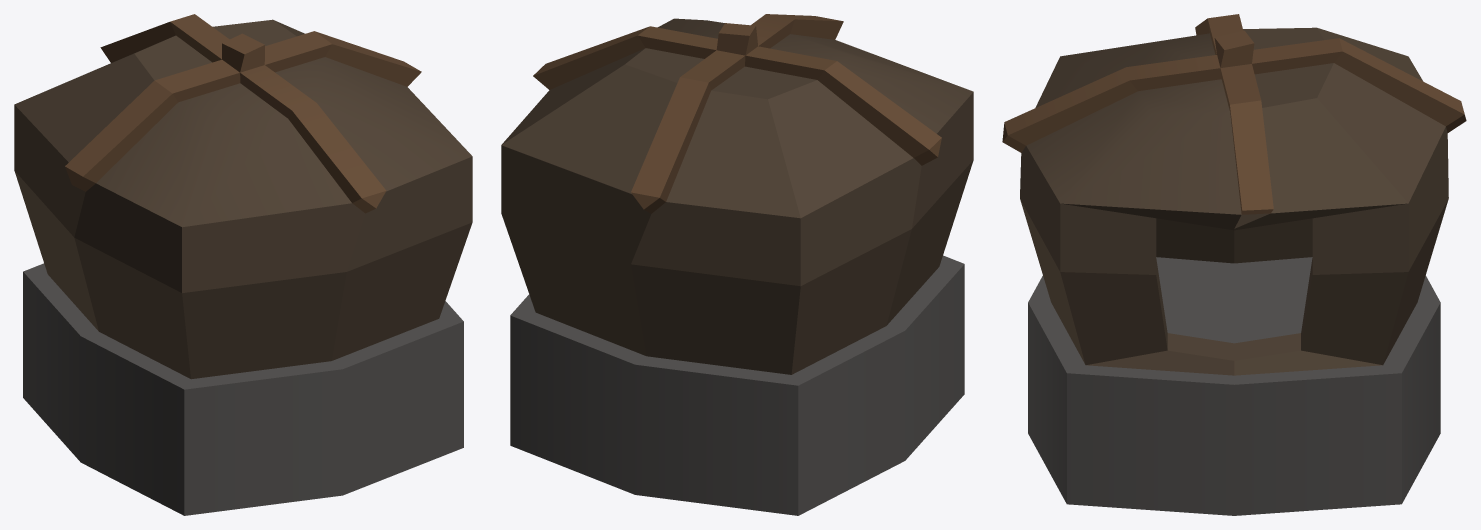
File: hut2.fbx
The picture shows the model from 3 angles, left to right: view 1: azimuth 30°, elevation 25°; view 2: azimuth 150°, elevation 25°; view 3: azimuth 270°, elevation 25°; orthographic projection. The views are drawn at different scales.
Visible parts, largest first — view 1: hut2; view 2: hut2; view 3: hut2.
Part boxes in pixels (<box>): hut2: <box>14,14,472,515</box>; hut2: <box>501,14,973,515</box>; hut2: <box>1002,14,1466,515</box>.
Bounding box in the file's own units: 8.4 × 8.35 × 8.9.
